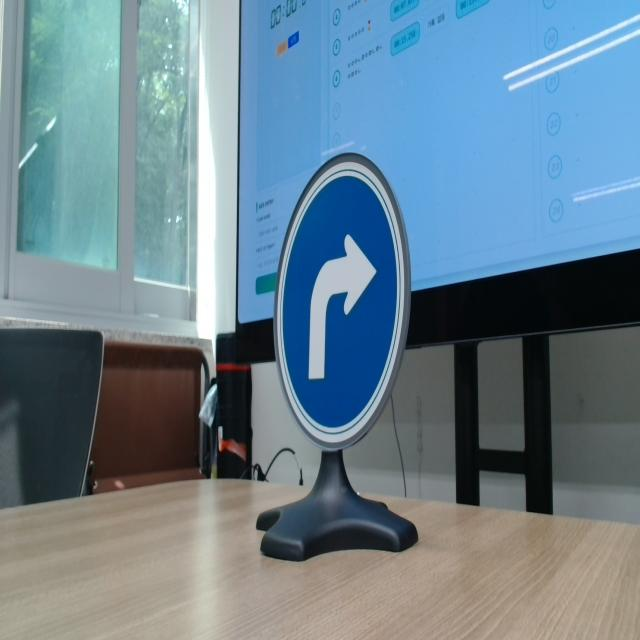right_dierection: (262, 123, 438, 473)
